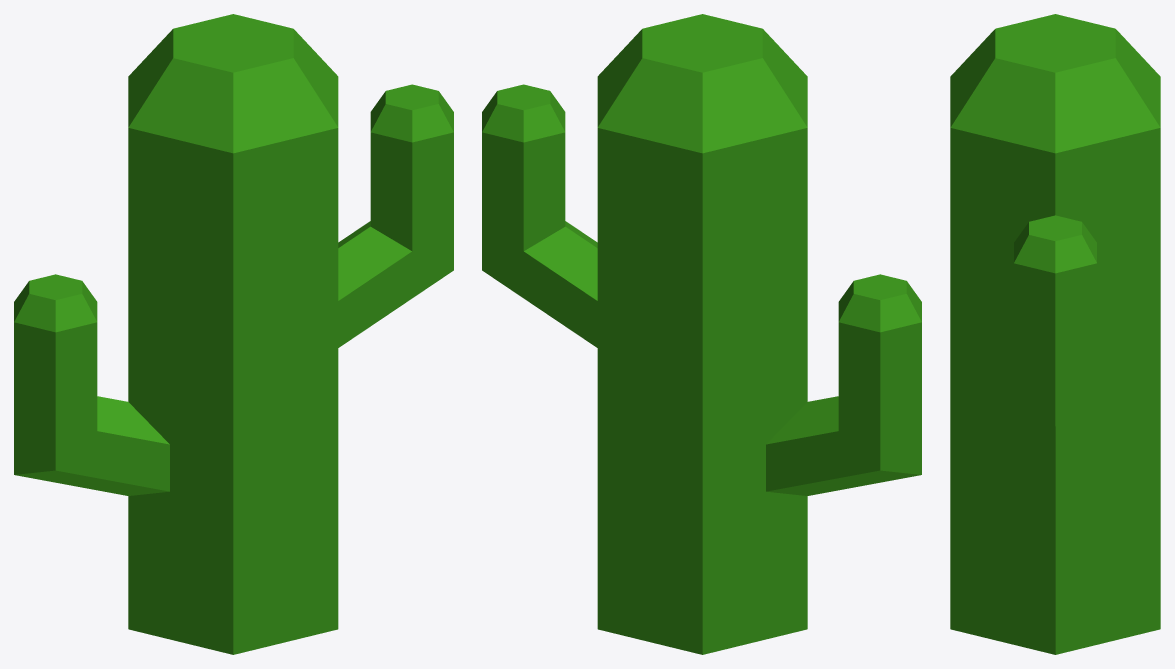
Rendered from cactusA.FBX.
3 renders of one model, left to right at view 1: azimuth 30°, elevation 25°; view 2: azimuth 150°, elevation 25°; view 3: azimuth 270°, elevation 25°, orthographic.
Parts seen in each view (by area): view 1: cactusA; view 2: cactusA; view 3: cactusA.
Part boxes in pixels (x1,y1,x2,y2): cactusA: (14,14,453,654); cactusA: (482,14,921,654); cactusA: (950,14,1160,654).
Bounding box in the file's own units: 0.5906 × 0.7189 × 0.2443.
